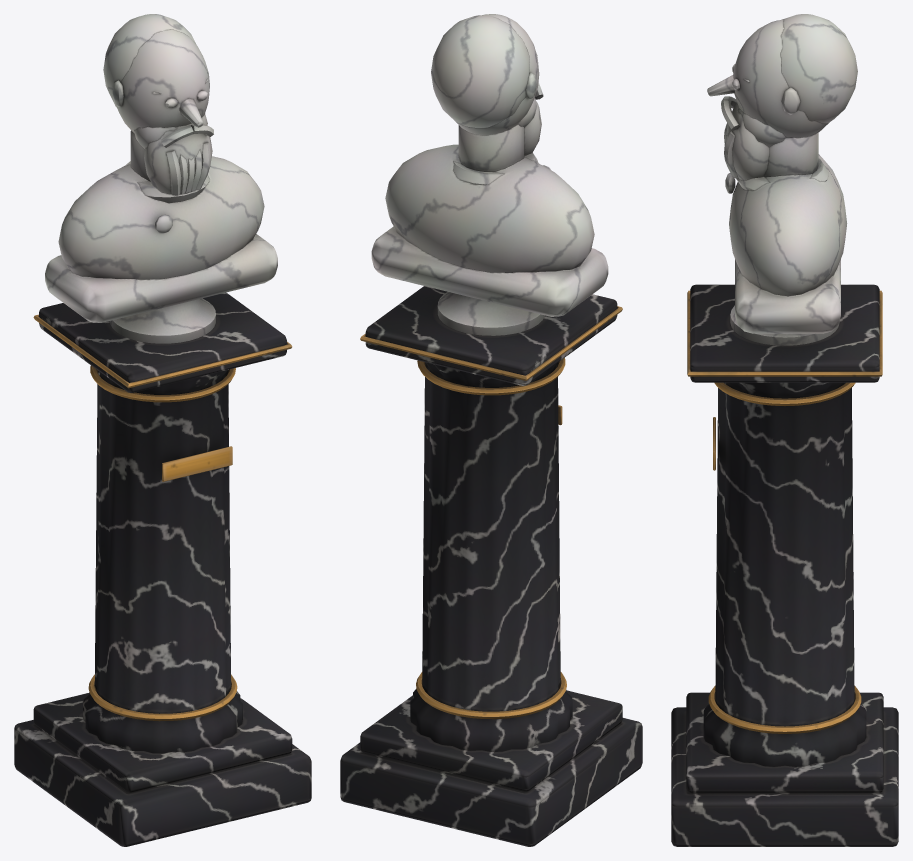
The model's file is FounderBust.fbx.
3 renders of one model, left to right at view 1: azimuth 30°, elevation 25°; view 2: azimuth 150°, elevation 25°; view 3: azimuth 270°, elevation 25°, orthographic. The views are drawn at different scales.
Parts seen in each view (by area): view 1: FounderBust; view 2: FounderBust; view 3: FounderBust.
Part boxes in pixels (x1=…): FounderBust: x1=14, y1=14, x2=311, y2=846; FounderBust: x1=340, y1=14, x2=642, y2=846; FounderBust: x1=671, y1=14, x2=898, y2=846.
Bounding box in the file's own units: 155 × 570 × 150.
